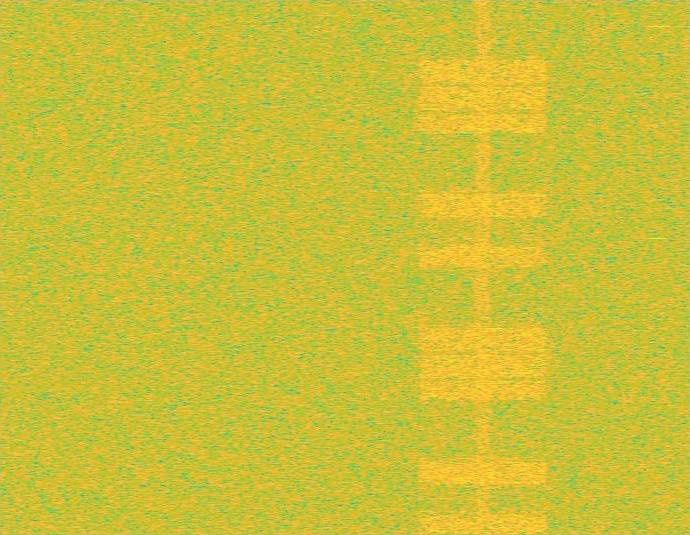DSSS: (474, 0, 492, 534)
LTE: (414, 0, 552, 534)
Radar: (652, 0, 665, 534)
